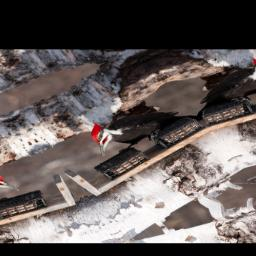Woodpecker: (77, 94, 193, 163)
